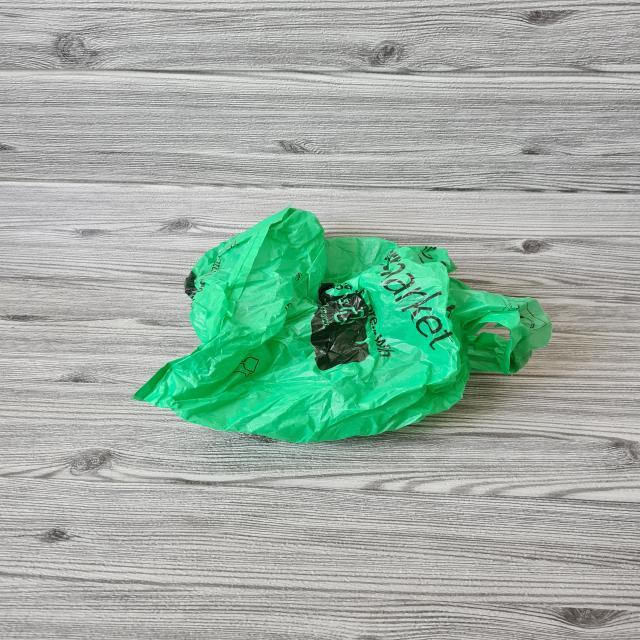plastic: (127, 191, 558, 463)
